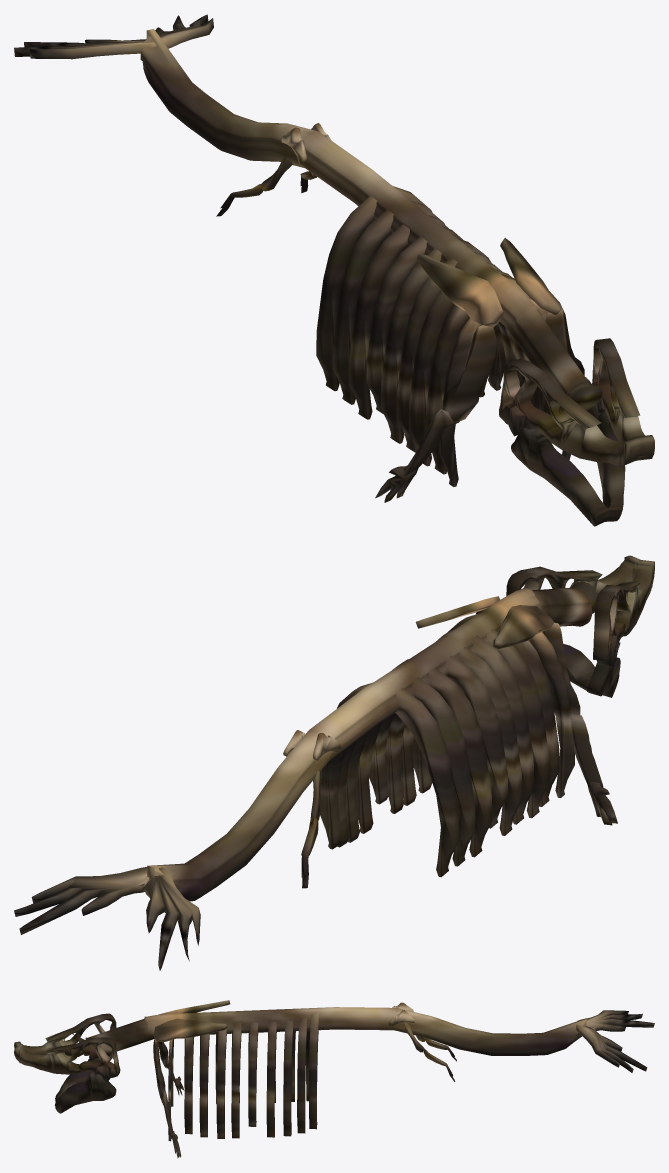
The model's file is animalBone2.fbx.
3 renders of one model, top to bottom at view 1: azimuth 30°, elevation 25°; view 2: azimuth 150°, elevation 25°; view 3: azimuth 270°, elevation 25°, orthographic. The views are drawn at different scales.
Parts seen in each view (by area): view 1: whaleSkeleton1:polySurface1; view 2: whaleSkeleton1:polySurface1; view 3: whaleSkeleton1:polySurface1.
Part boxes in pixels (x1,y1,x2,y2): whaleSkeleton1:polySurface1: (14, 14, 654, 526); whaleSkeleton1:polySurface1: (14, 555, 654, 970); whaleSkeleton1:polySurface1: (14, 1000, 654, 1158).
Bounding box in the file's own units: 6.97 × 5.68 × 27.37.
Materials: 1 (1 with a texture image).
